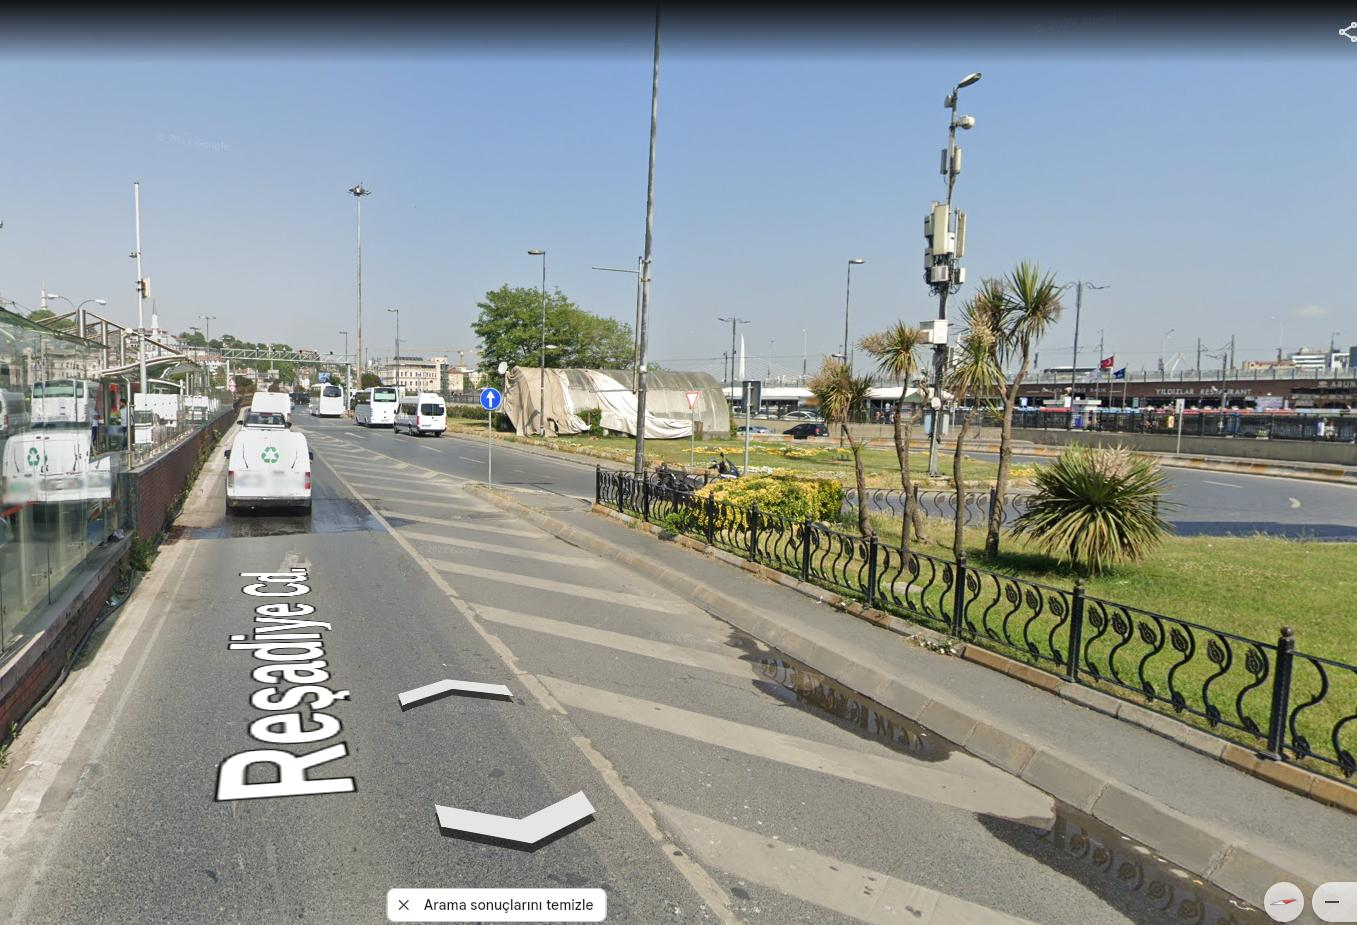forward: (482, 388, 500, 410)
